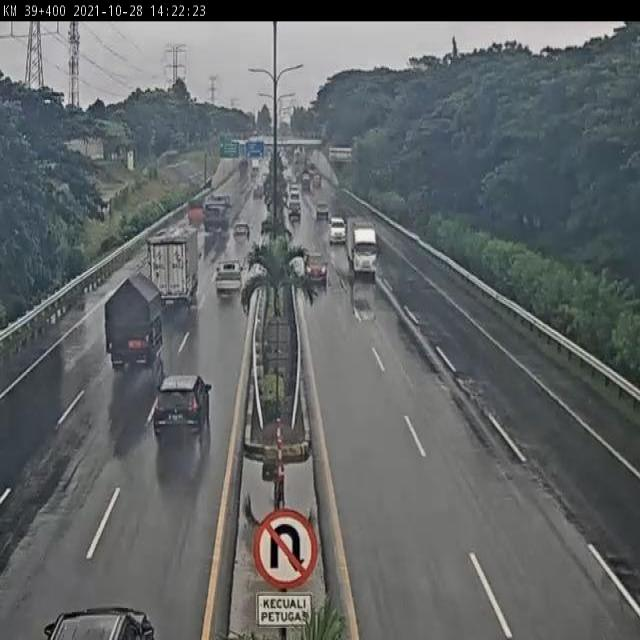Car: (152, 374, 212, 442), (43, 605, 155, 640), (301, 250, 330, 283), (329, 214, 345, 247), (232, 223, 251, 239)
Truck: (104, 271, 167, 373), (147, 224, 202, 306), (345, 215, 383, 281), (204, 192, 234, 234), (213, 261, 244, 299), (187, 197, 206, 225), (251, 157, 260, 173)
